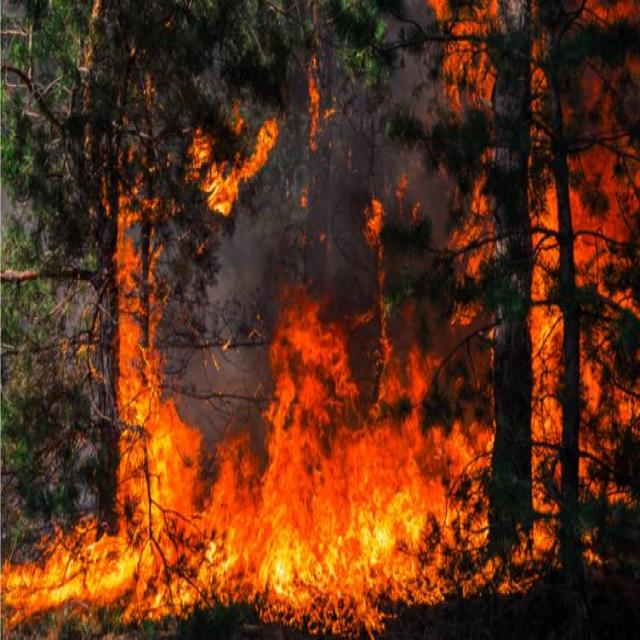fire: (0, 112, 631, 616)
